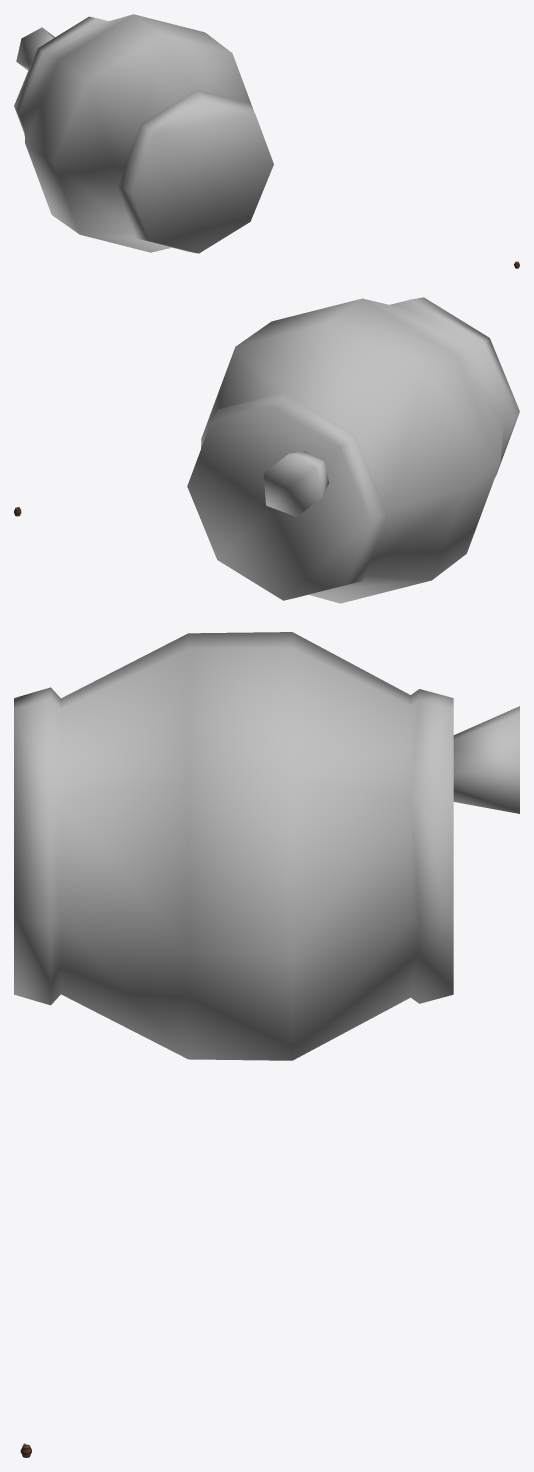
File: barrel.fbx
3 views of the same model, one above another, from view 1: azimuth 30°, elevation 25°; view 2: azimuth 150°, elevation 25°; view 3: azimuth 270°, elevation 25° (orthographic). The views are drawn at different scales.
Parts seen in each view (by area): view 1: Model.001; view 2: Model.001; view 3: Model.001.
Part boxes in pixels (left/top/right/bottom): Model.001: left=14, top=14, right=273, bottom=253; Model.001: left=187, top=297, right=519, bottom=603; Model.001: left=14, top=632, right=519, bottom=1060.
Bounding box in the file's own units: 7516 × 4712 × 4141.
